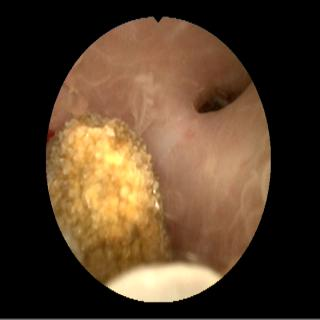stone: (48, 118, 166, 279)
tissue: (55, 20, 268, 266)
